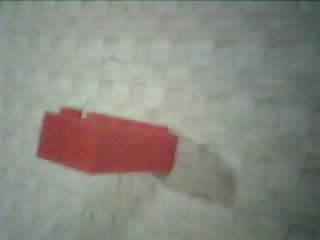lego: (35, 106, 178, 176)
